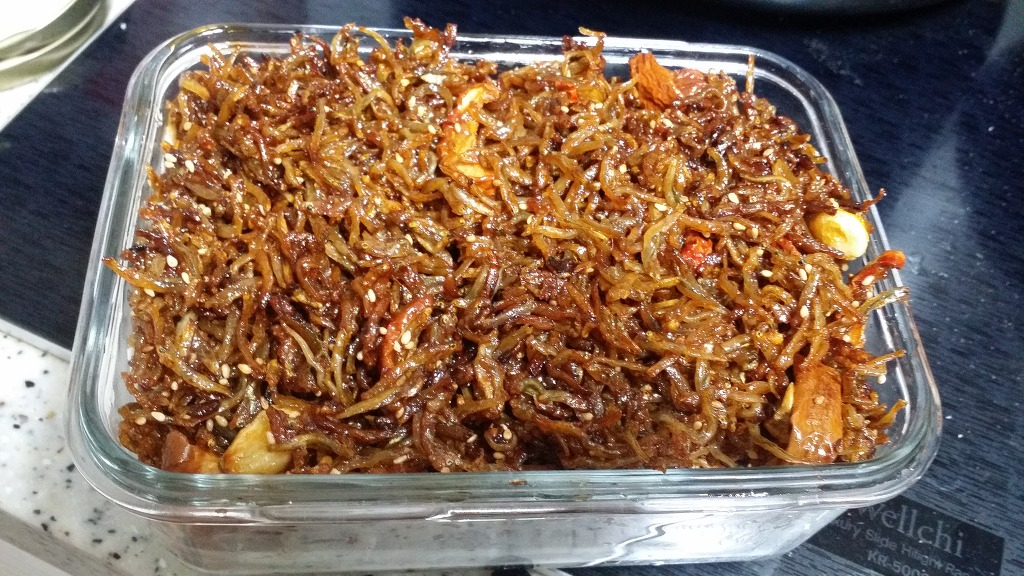myeolchibokk-eum: (107, 17, 904, 475)
